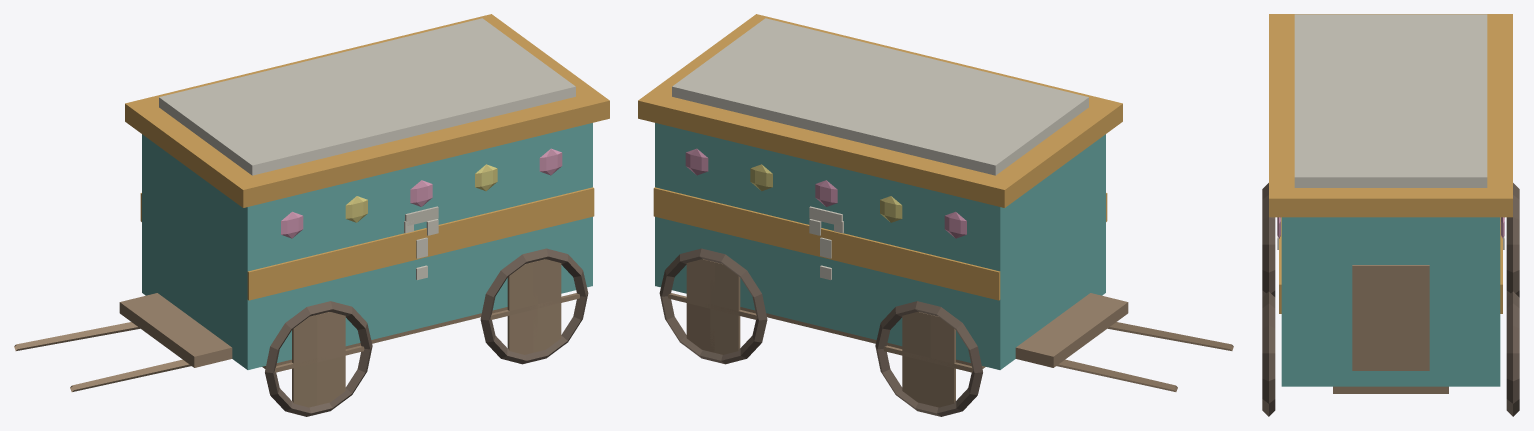
Rendered from figure_wagon.glb.
The picture shows the model from 3 angles, left to right: view 1: azimuth 30°, elevation 25°; view 2: azimuth 150°, elevation 25°; view 3: azimuth 270°, elevation 25°; orthographic projection. The views are drawn at different scales.
Visible parts, largest first — view 1: ../props/figure_wagon; view 2: ../props/figure_wagon; view 3: ../props/figure_wagon.
Boxes of the visible parts, left/top/right/bottom form: ../props/figure_wagon: left=14, top=14, right=609, bottom=416; ../props/figure_wagon: left=638, top=14, right=1233, bottom=416; ../props/figure_wagon: left=1262, top=14, right=1519, bottom=416.
Bounding box in the file's own units: 4.7 × 2.24 × 2.
